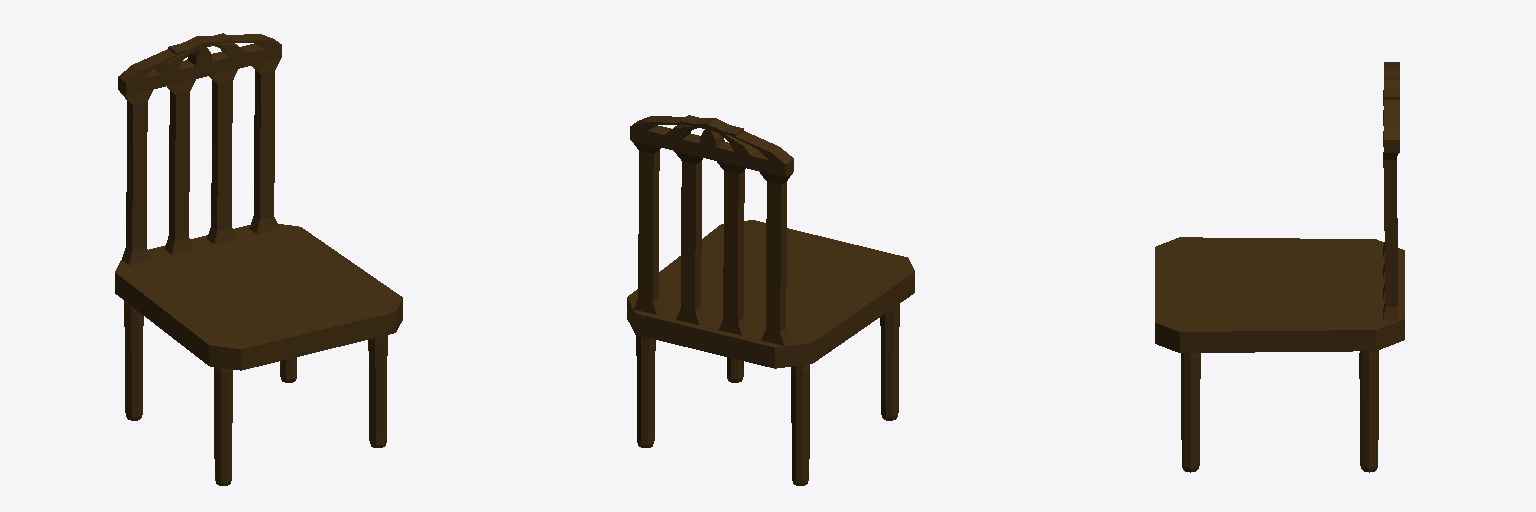
The model's file is Texture_Chair.obj.
3 views of the same model, side by side, from view 1: azimuth 30°, elevation 25°; view 2: azimuth 150°, elevation 25°; view 3: azimuth 270°, elevation 25° (orthographic).
Parts seen in each view (by area): view 1: textureEditorIsolateSelectSet seatShape; view 2: textureEditorIsolateSelectSet seatShape; view 3: textureEditorIsolateSelectSet seatShape.
Boxes of the visible parts, <box> form: textureEditorIsolateSelectSet seatShape: <box>115,33,402,485</box>; textureEditorIsolateSelectSet seatShape: <box>627,115,914,485</box>; textureEditorIsolateSelectSet seatShape: <box>1155,62,1404,472</box>.
Bounding box in the file's own units: 2.51 × 4.34 × 2.81.